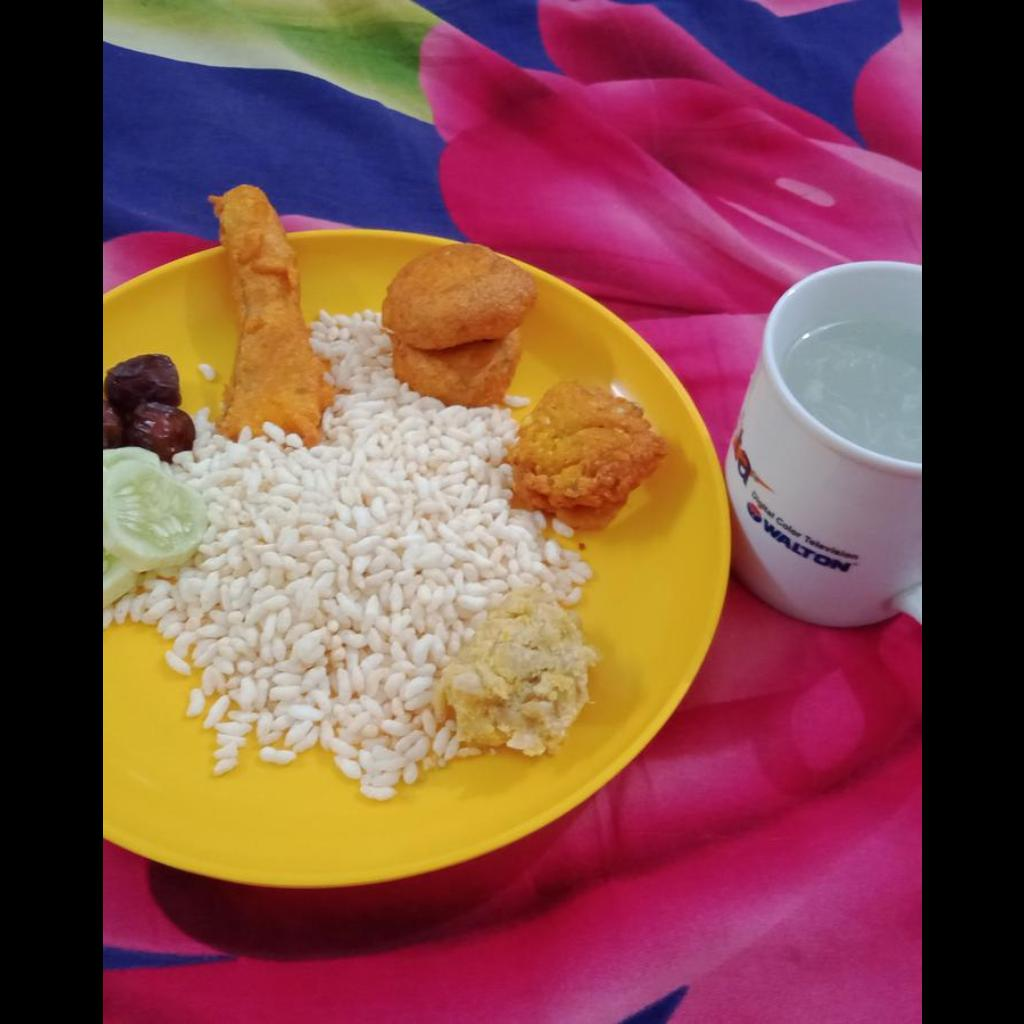beguni: (213, 185, 328, 442)
chop-alu: (384, 243, 534, 405)
cucumber: (102, 447, 207, 608)
dates: (106, 358, 196, 450)
juice: (778, 320, 920, 463)
peyaju: (506, 384, 668, 537)
potato-mashed: (435, 587, 595, 757)
puffed-rice: (102, 311, 588, 800)
